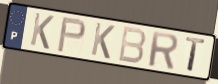B: (116, 25, 148, 66)
K: (29, 11, 56, 52), (90, 21, 117, 61)
P: (56, 16, 88, 55)
R: (147, 30, 180, 71)
T: (184, 35, 207, 75)
